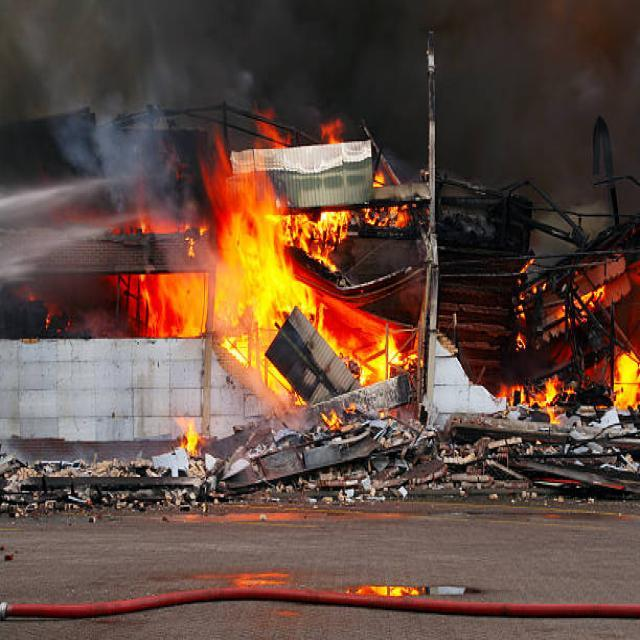Fire: (144, 170, 336, 332), (559, 287, 640, 452), (304, 288, 418, 390), (229, 325, 297, 402)
Smoke: (0, 3, 397, 177), (404, 2, 640, 226)
